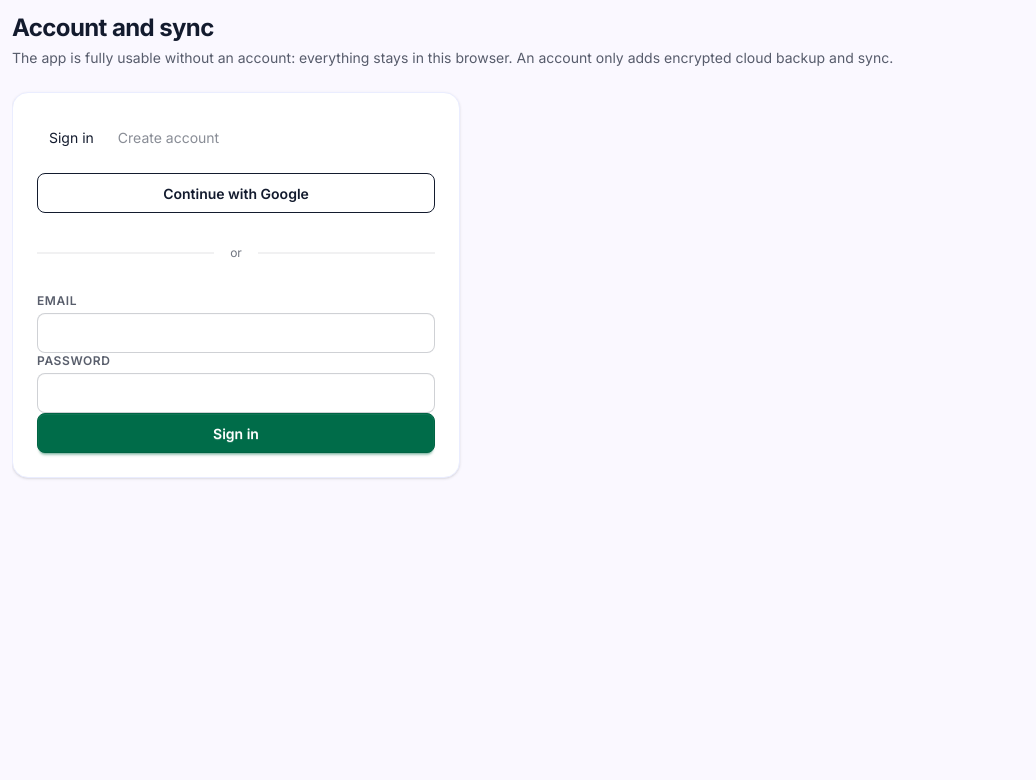
AccountPage › signs in with Google
What coordinates should you click on to do the following:
click the button "Continue with Google"
I would click on:
 (236, 193)
Its box is x1=37 y1=173 x2=435 y2=213.
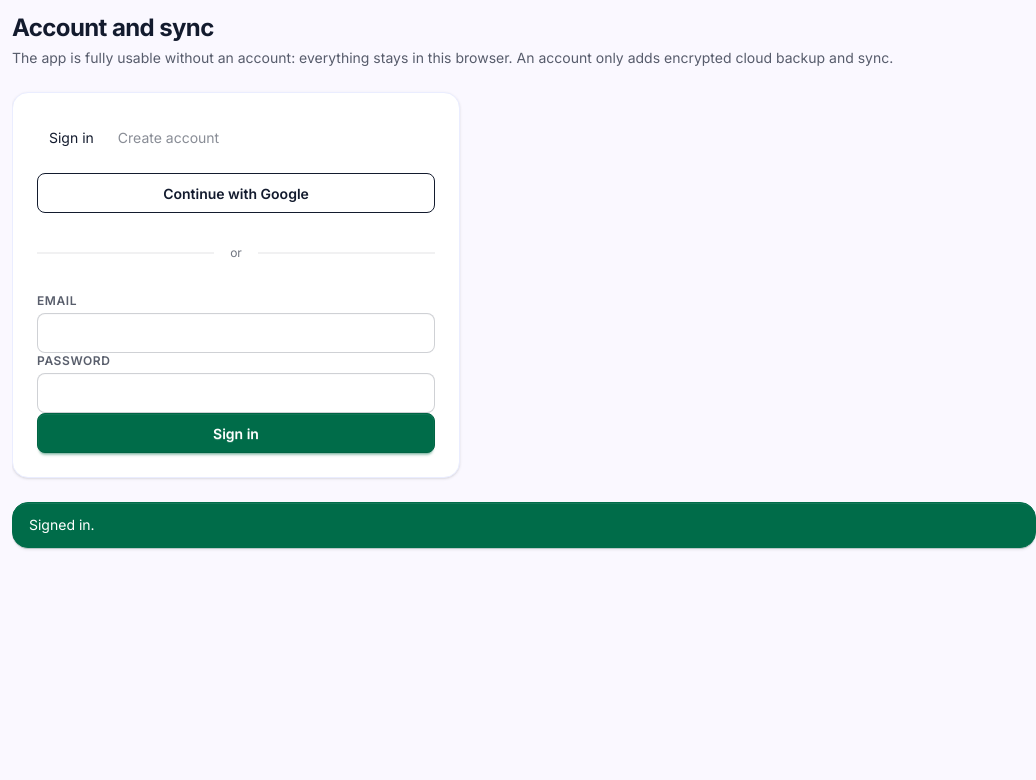
Expected: the message shows "Signed in", x1=29 y1=516 x2=95 y2=533
